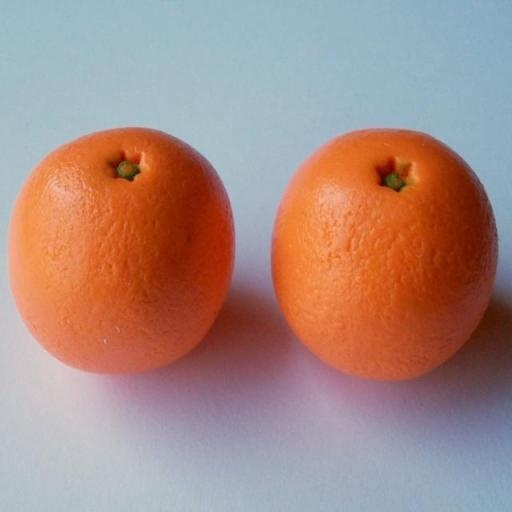fruit: (91, 118, 376, 412), (463, 147, 504, 483)
